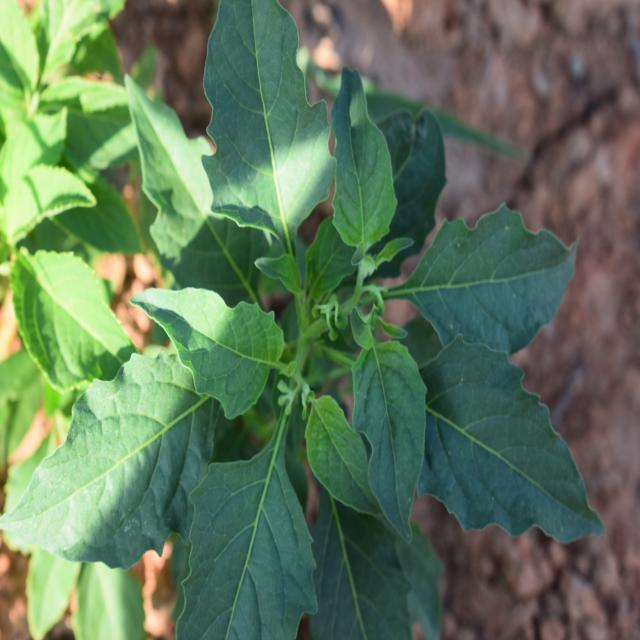Black_nightshade: (85, 78, 574, 607)
